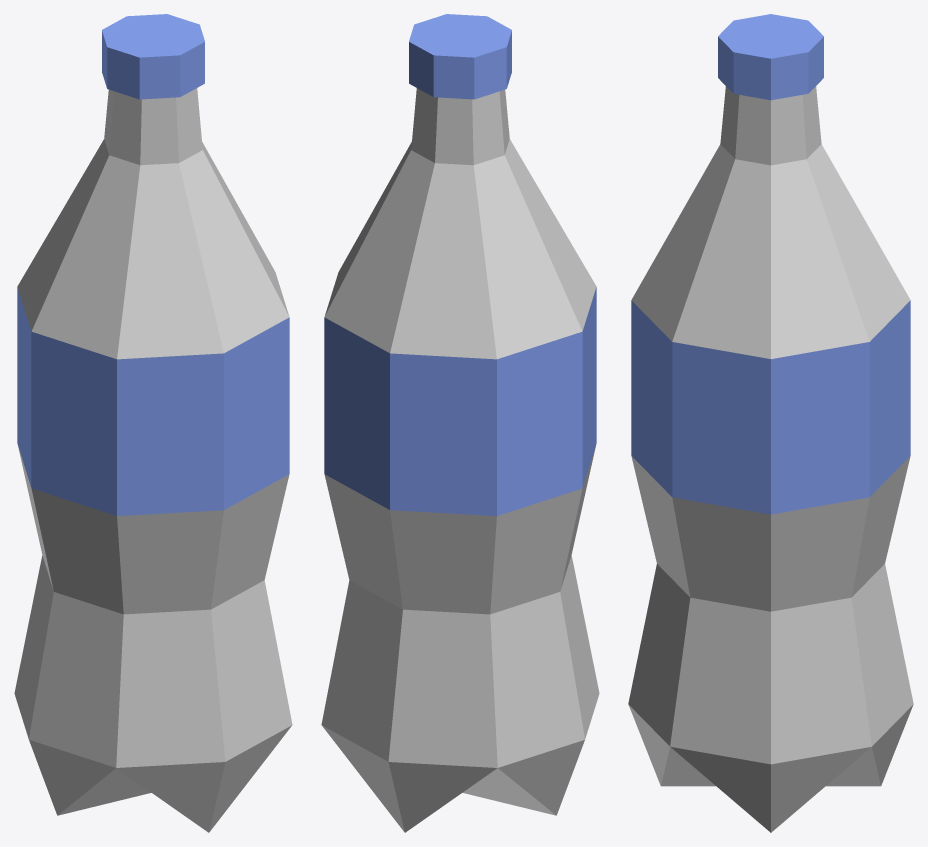
Rendered from Drink.fbx.
3 renders of one model, left to right at view 1: azimuth 30°, elevation 25°; view 2: azimuth 150°, elevation 25°; view 3: azimuth 270°, elevation 25°, orthographic.
Parts seen in each view (by area): view 1: drink_002.002; view 2: drink_002.002; view 3: drink_002.002.
Boxes of the visible parts, <box> form: drink_002.002: <box>14,14,292,832</box>; drink_002.002: <box>321,14,599,832</box>; drink_002.002: <box>628,14,913,832</box>.
Size of the model in its own units: 0.0887 by 0.0887 by 0.2571.
